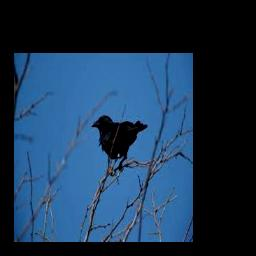Crow: (90, 114, 147, 171)
